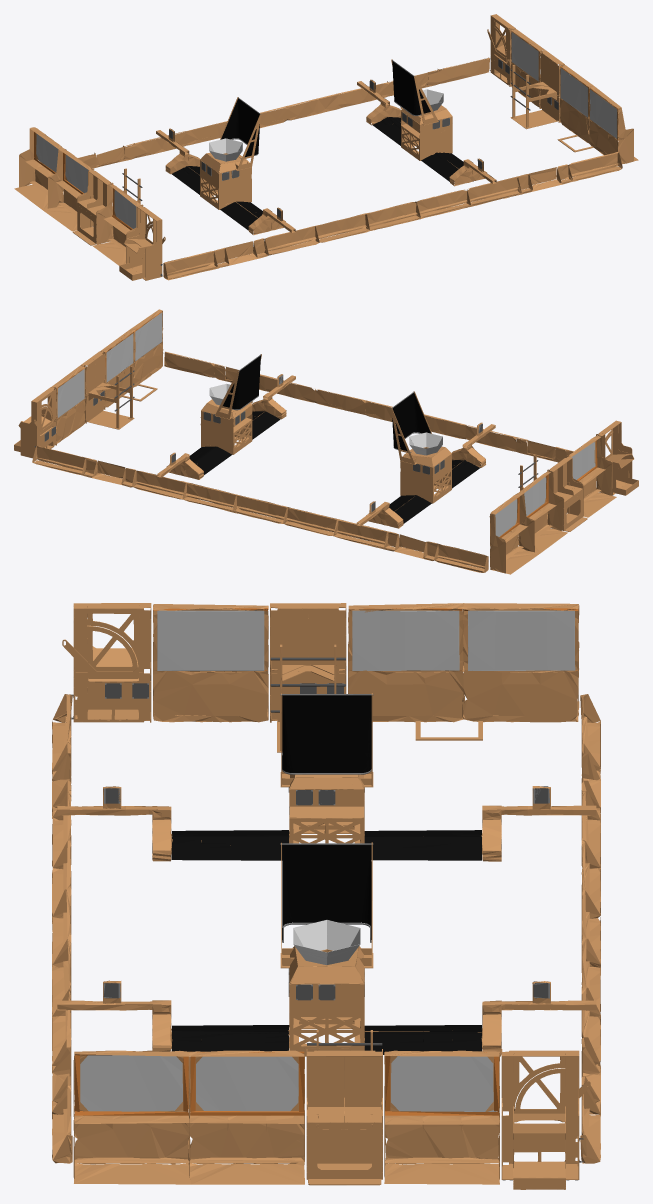
Rendered from field.glb.
3 views of the same model, one above another, from view 1: azimuth 30°, elevation 25°; view 2: azimuth 150°, elevation 25°; view 3: azimuth 270°, elevation 25° (orthographic). The views are drawn at different scales.
Visible parts, largest first — view 1: perimeter, hub_red, hub_blue, trenches, bumps, tower_blue, outpost_red, tower_red, outpost_blue; view 2: perimeter, hub_red, hub_blue, trenches, bumps, tower_blue, outpost_blue, tower_red, outpost_red; view 3: perimeter, hub_blue, bumps, hub_red, tower_blue, trenches, outpost_blue, outpost_red, tower_red.
Boxes of the visible parts, x1,y1,x2,y2 form: perimeter: (14, 29, 638, 280); hub_red: (200, 97, 261, 209); hub_blue: (391, 59, 452, 160); trenches: (156, 79, 496, 235); bumps: (172, 117, 473, 232); tower_blue: (510, 50, 564, 129); outpost_red: (119, 204, 165, 280); tower_red: (72, 168, 142, 245); outpost_blue: (487, 14, 515, 86); perimeter: (32, 309, 616, 574); hub_red: (390, 391, 451, 503); hub_blue: (200, 354, 261, 454); trenches: (157, 374, 495, 528); bumps: (189, 411, 479, 525); tower_blue: (80, 351, 134, 429); outpost_blue: (14, 387, 56, 458); tower_red: (518, 455, 587, 531); outpost_red: (596, 420, 638, 495); perimeter: (52, 603, 600, 1184); hub_blue: (280, 842, 373, 1056); bumps: (153, 830, 501, 1054); hub_red: (280, 693, 373, 843); tower_blue: (306, 1030, 382, 1185); trenches: (57, 786, 596, 1056); outpost_blue: (501, 1049, 590, 1189); outpost_red: (62, 603, 151, 722); tower_red: (270, 603, 346, 752).
Size of the model in its own units: 18.46 by 3.06 by 8.68.
